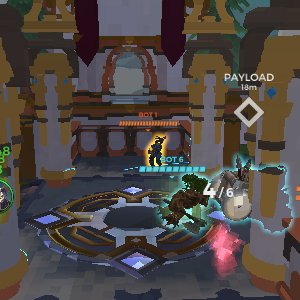model: (146, 134, 164, 168)
